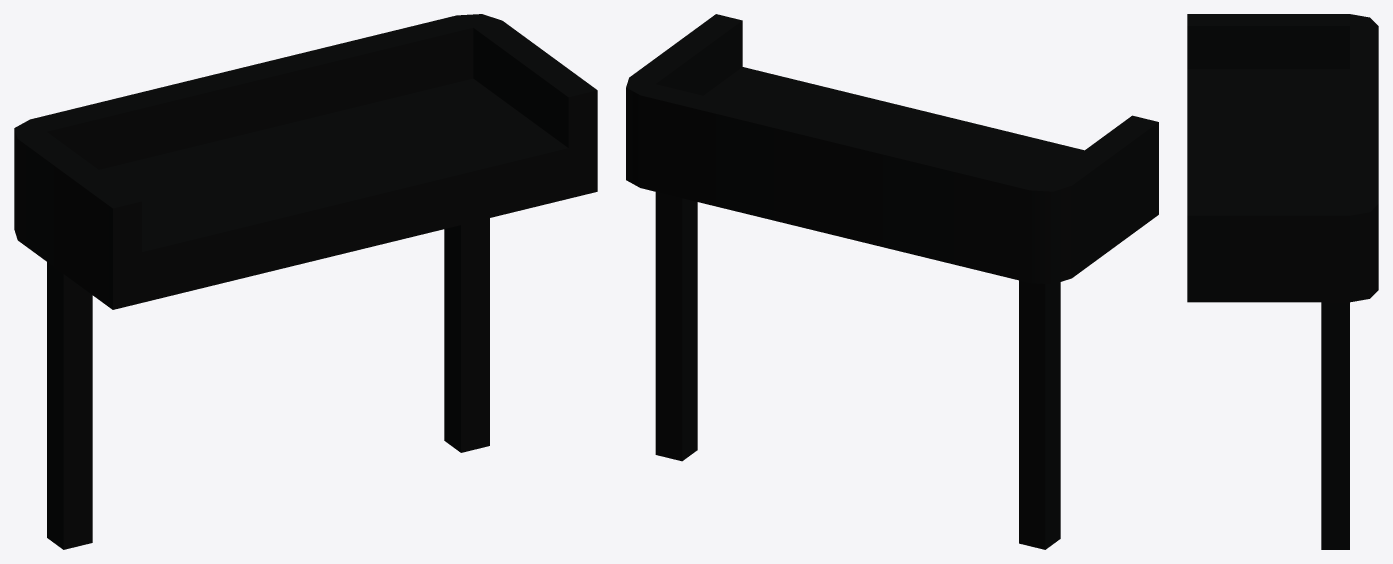
Rendered from detail-overhang.glb.
The picture shows the model from 3 angles, left to right: view 1: azimuth 30°, elevation 25°; view 2: azimuth 150°, elevation 25°; view 3: azimuth 270°, elevation 25°; orthographic projection. The views are drawn at different scales.
Visible parts, largest first — view 1: detail-overhang; view 2: detail-overhang; view 3: detail-overhang.
Boxes of the visible parts, left/top/right/bottom form: detail-overhang: left=14, top=14, right=597, bottom=549; detail-overhang: left=626, top=14, right=1158, bottom=549; detail-overhang: left=1187, top=14, right=1378, bottom=549.
Bounding box in the file's own units: 0.5 × 0.4001 × 0.2.
Materials: 1 (1 with a texture image).
